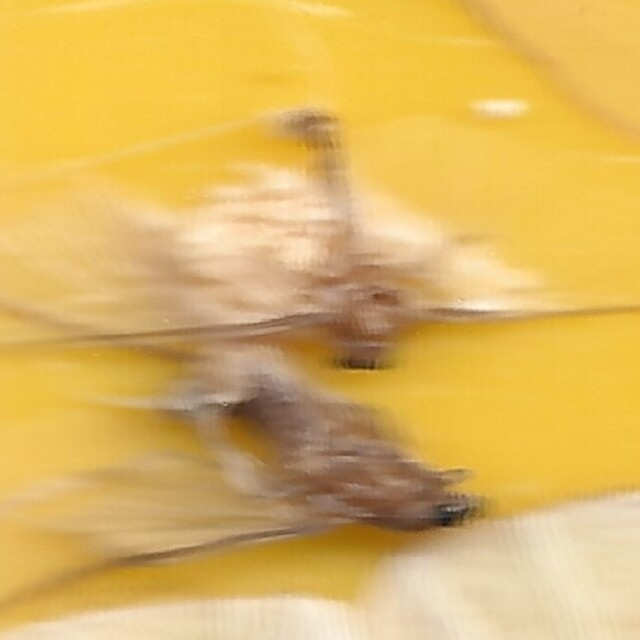Ephemeroptera: (155, 323, 485, 538), (278, 102, 426, 382)
